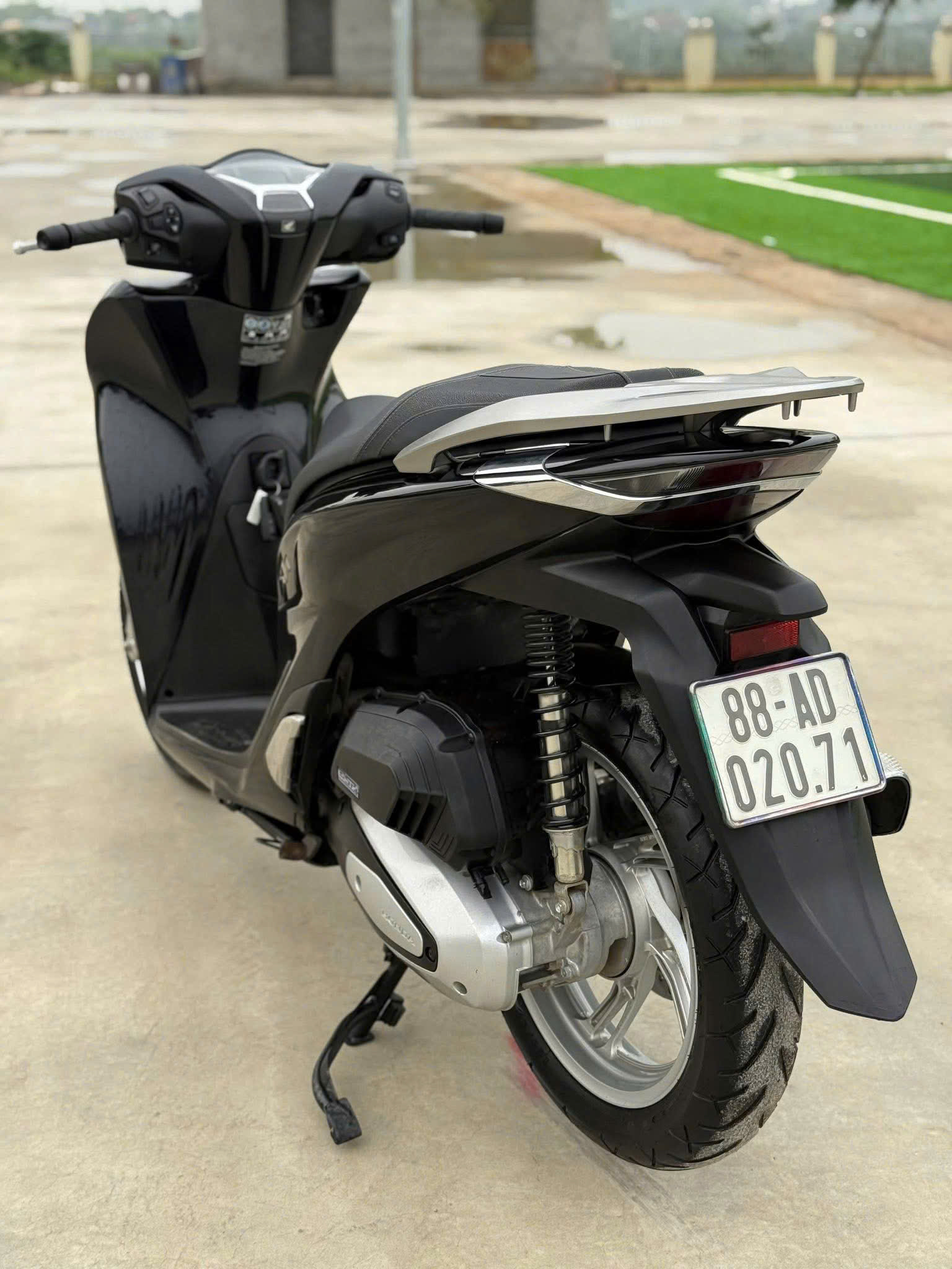Bien-so: (692, 649, 894, 832)
